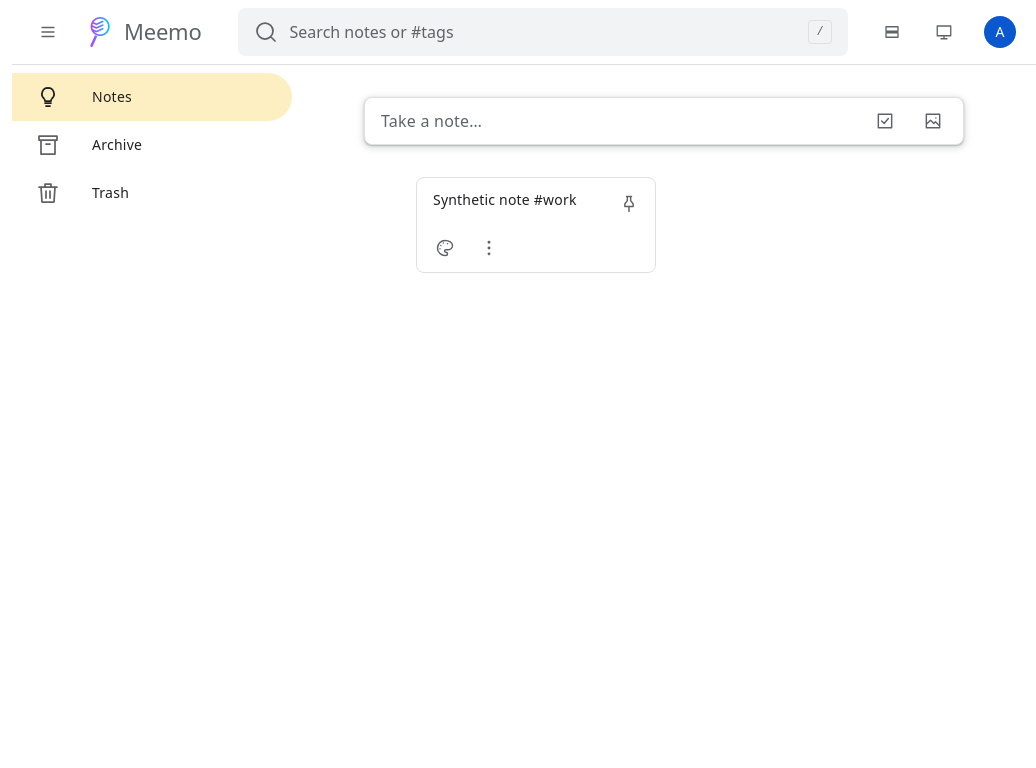
it: Keep-style notes workspace › moves a note to Trash without confirmation and restores it from the snackbar Undo
What coordinates should you click on to do the following:
click the button named "More note actions"
I would click on:
 (489, 248)
Its box is [469,228,509,268].
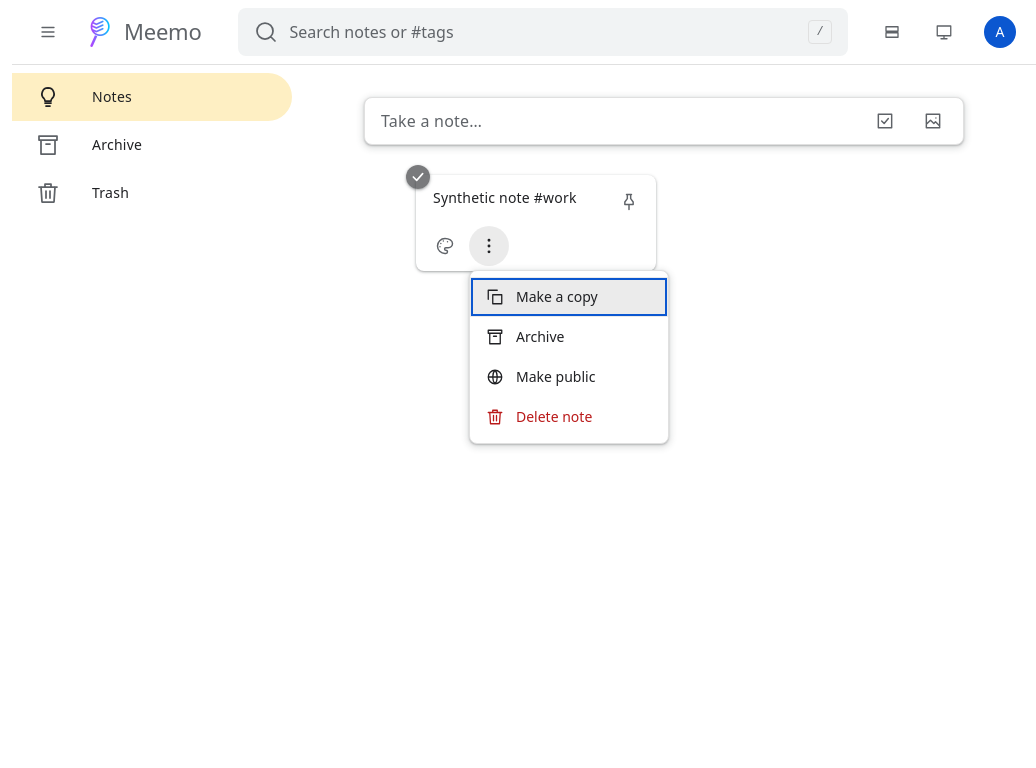
What coordinates should you click on to do the following:
click the menu item with aria-label "Delete note"
I would click on:
 (569, 417)
Its box is [470,397,668,437].
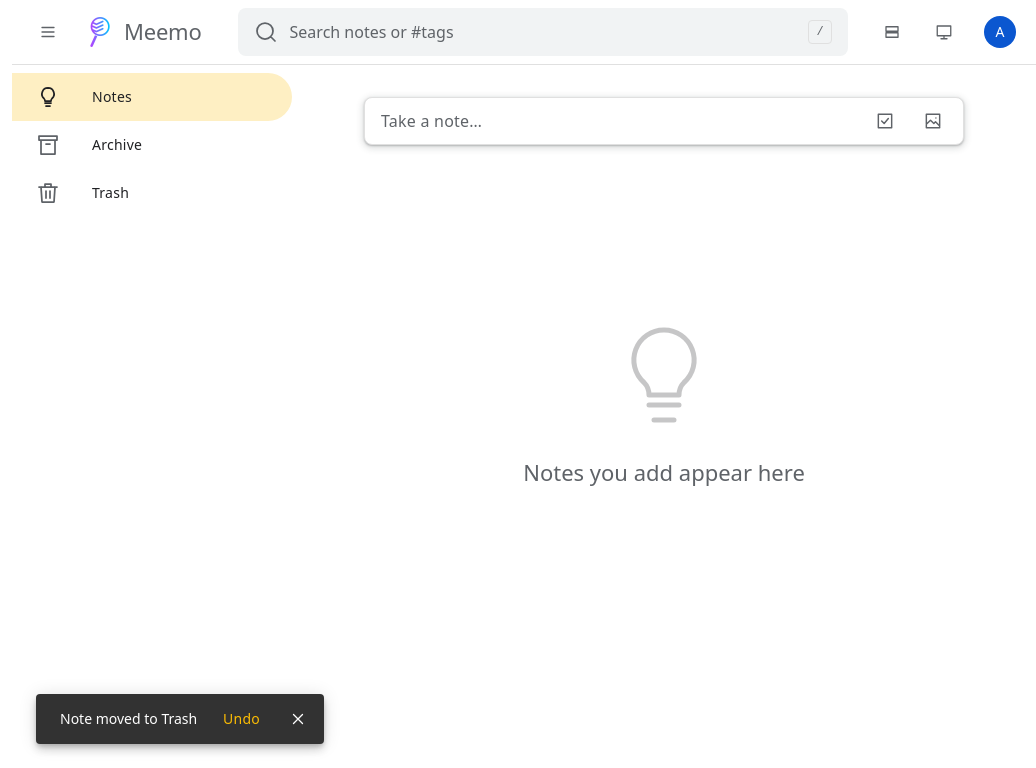
Now the message with class "snackbar" shows "Note moved to Trash", box [60,709,197,728]
What coordinates should you click on to do the following:
click the button with class "snackbar-action"
I would click on:
 (242, 719)
Its box is [211,701,272,737].
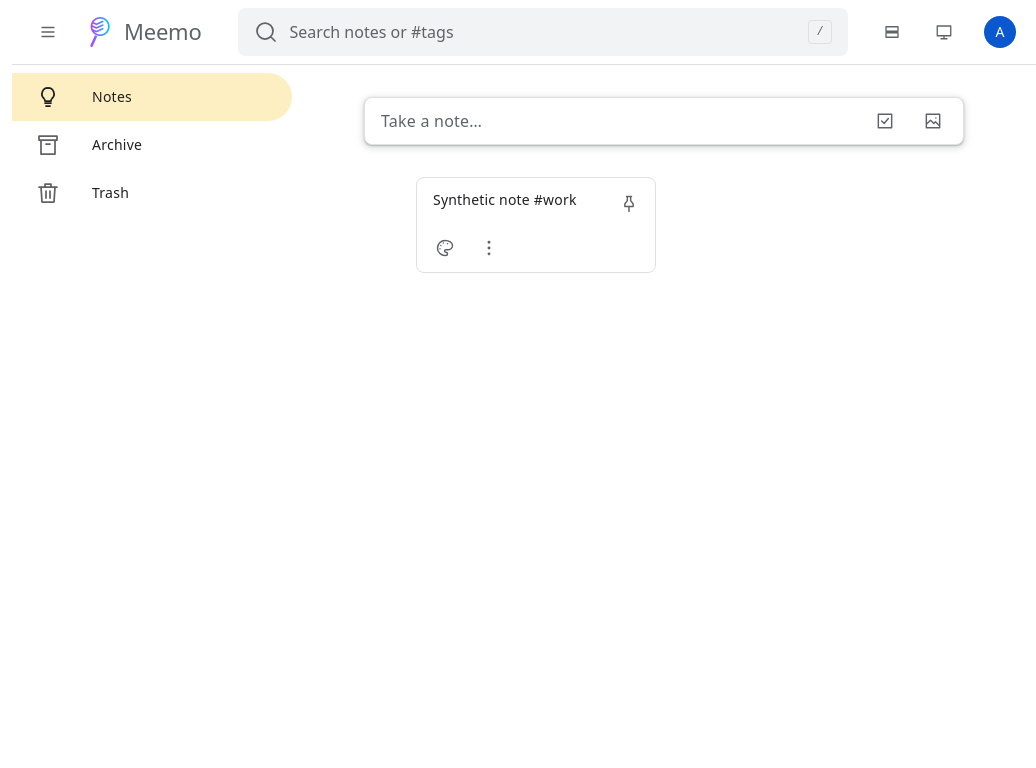
Now the element with class "note-card" is shown, box [416,177,656,273]
